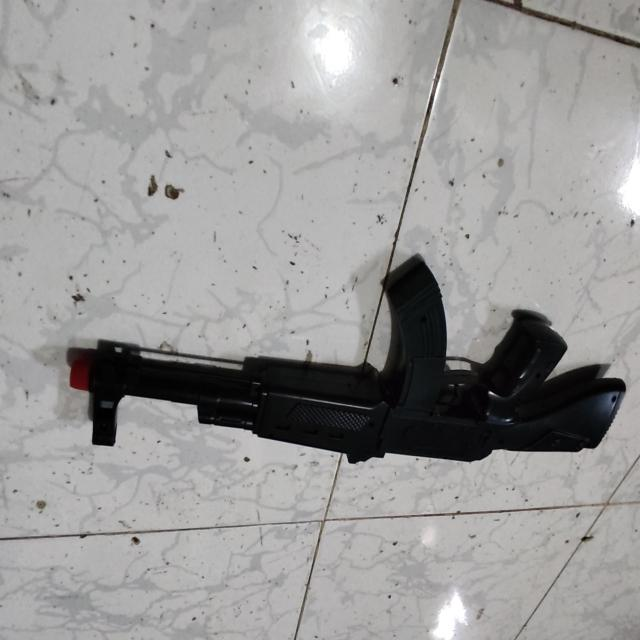rifle: (70, 262, 626, 464)
